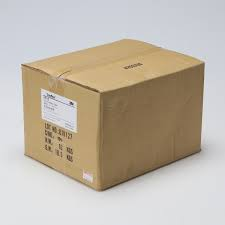undamaged: (20, 37, 209, 194)
